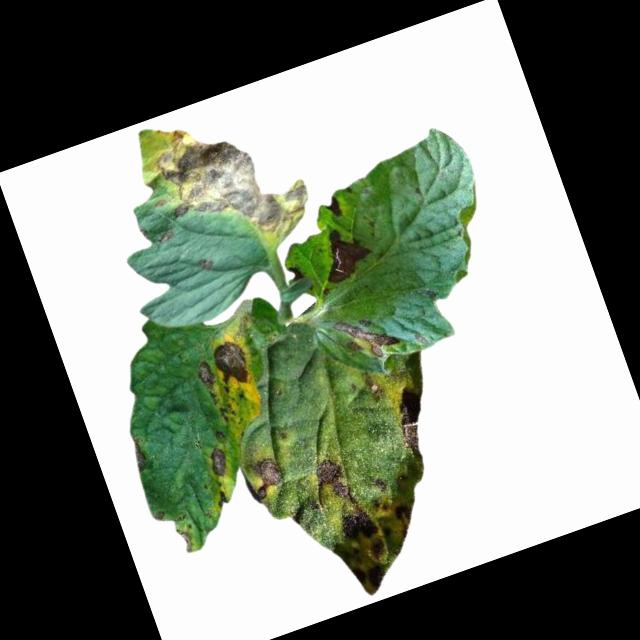Early_blight: (144, 91, 318, 262), (319, 486, 436, 604), (308, 216, 379, 289), (384, 382, 441, 468), (331, 303, 401, 368), (204, 332, 257, 397), (307, 450, 355, 509), (239, 448, 290, 503), (201, 443, 232, 480), (359, 368, 387, 405), (190, 356, 216, 391), (128, 434, 152, 471), (173, 523, 195, 556), (322, 192, 345, 219), (195, 256, 217, 275), (284, 261, 302, 283), (211, 487, 229, 508), (155, 228, 177, 245)
